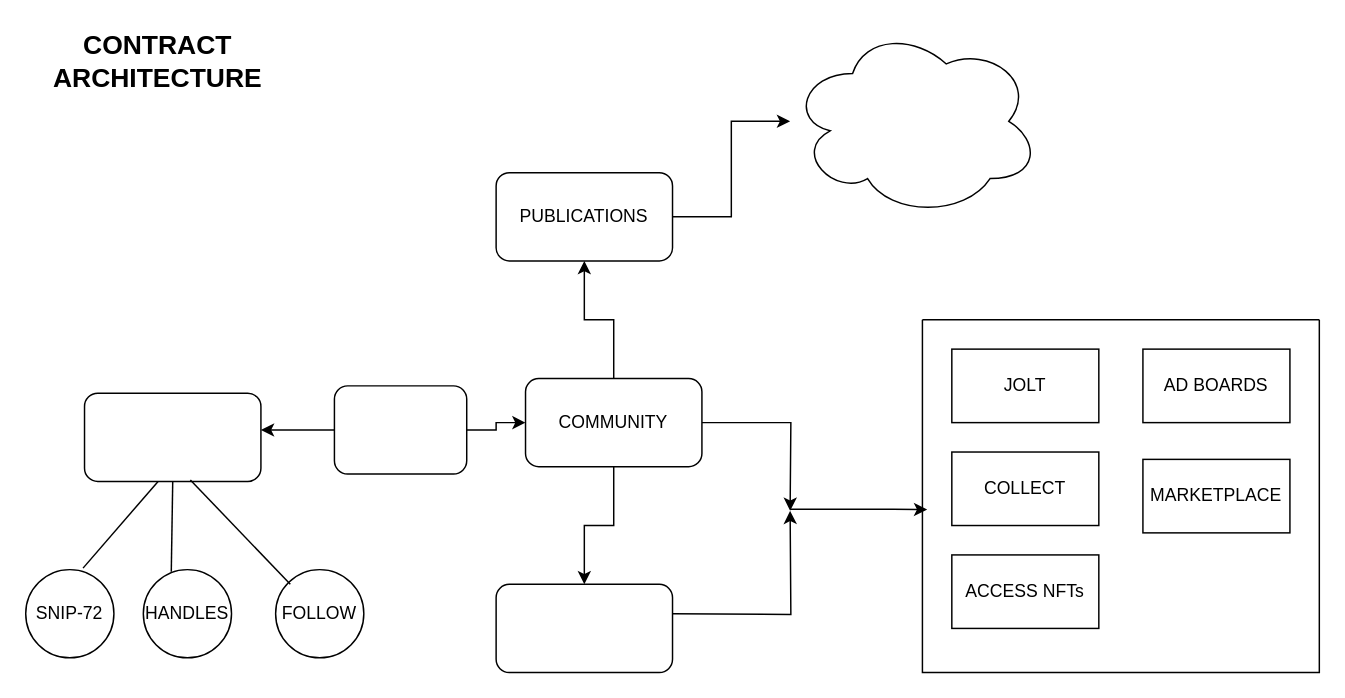
This 1345x698 diagram has some shape labels left out. Here are the shapes that lost their labels. From the top down, the centre of each, then its label:
At [914,120]: "ARWEAVE".
At [172,436]: "PROFILE".
At [400,429]: "HUB".
At [584,628]: "CHANNELS".
